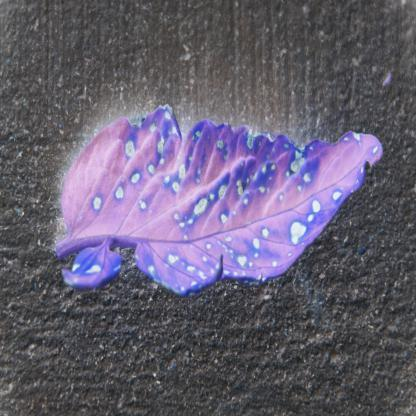Tomato Early blight leaf: (60, 108, 386, 299)
